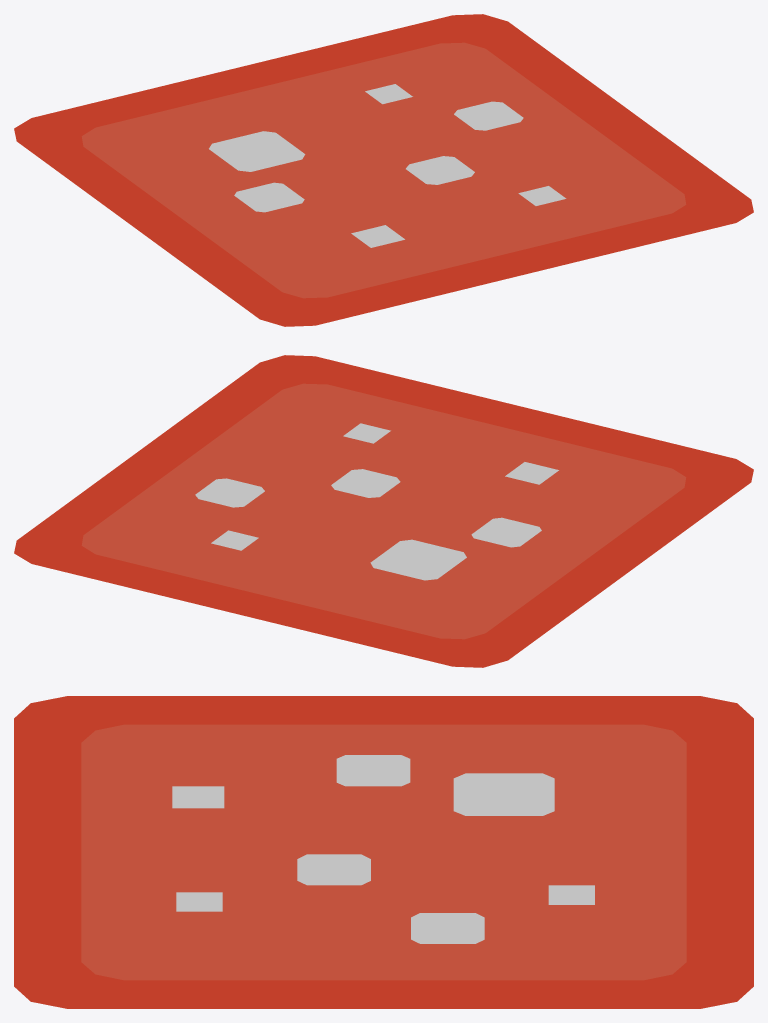
The model's file is BC_cookrecipe_01.fbx.
3 views of the same model, one above another, from view 1: azimuth 30°, elevation 25°; view 2: azimuth 150°, elevation 25°; view 3: azimuth 270°, elevation 25° (orthographic). The views are drawn at different scales.
Parts seen in each view (by area): view 1: base, boko, boko4, boko2, boko1, boko3, boko5, boko6; view 2: base, boko, boko4, boko2, boko1, boko3, boko5, boko6; view 3: base, boko, boko4, boko1, boko2, boko3, boko5, boko6.
Boxes of the visible parts, x1,y1,x2,y2 form: base: [14, 14, 753, 326]; boko: [209, 131, 305, 171]; boko4: [234, 182, 304, 212]; boko2: [454, 101, 523, 130]; boko1: [406, 156, 474, 184]; boko3: [351, 225, 404, 247]; boko5: [365, 84, 412, 104]; boko6: [518, 186, 566, 205]; base: [14, 355, 753, 667]; boko: [370, 539, 466, 580]; boko4: [471, 517, 541, 547]; boko2: [195, 478, 264, 507]; boko1: [331, 469, 400, 497]; boko3: [505, 462, 558, 484]; boko5: [211, 530, 258, 550]; boko6: [343, 423, 390, 443]; base: [14, 696, 753, 1008]; boko: [453, 773, 554, 815]; boko4: [336, 755, 410, 786]; boko1: [297, 854, 370, 885]; boko2: [411, 913, 484, 943]; boko3: [172, 786, 224, 808]; boko5: [548, 885, 594, 904]; boko6: [176, 892, 222, 911].
Size of the model in its own units: 3.5 by 0.033 by 3.5.
